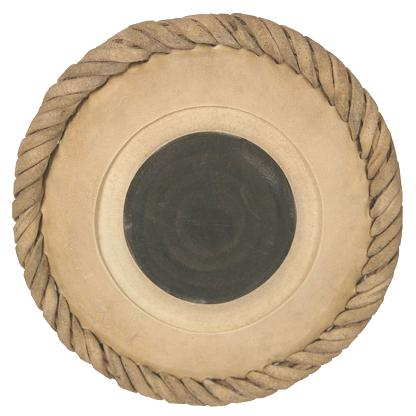Mridangam: (5, 7, 413, 416)
